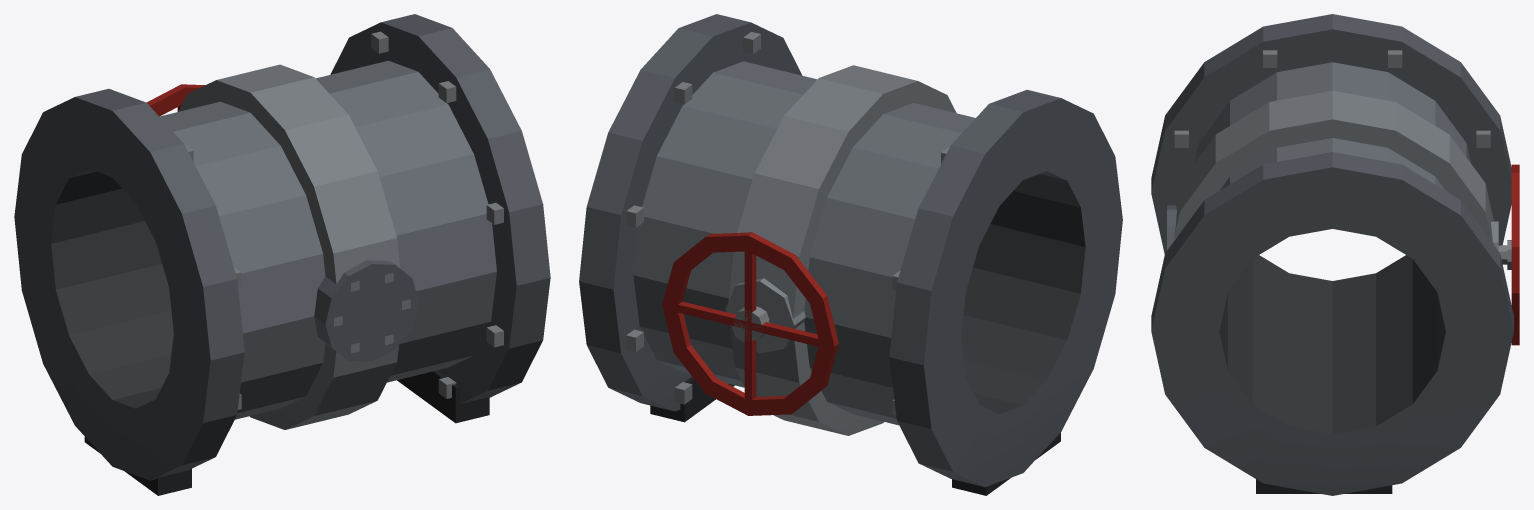
Rendered from pipe.valve.grey.glb.
3 renders of one model, left to right at view 1: azimuth 30°, elevation 25°; view 2: azimuth 150°, elevation 25°; view 3: azimuth 270°, elevation 25°, orthographic. The views are drawn at different scales.
Parts seen in each view (by area): view 1: pipe_valve_grey; view 2: pipe_valve_grey; view 3: pipe_valve_grey.
Boxes of the visible parts, x1=… form: pipe_valve_grey: x1=14, y1=14, x2=550, y2=495; pipe_valve_grey: x1=579, y1=14, x2=1122, y2=495; pipe_valve_grey: x1=1151, y1=14, x2=1519, y2=495.
Size of what is drawn, in the model's own units: 1.6 by 1.6 by 1.62.
